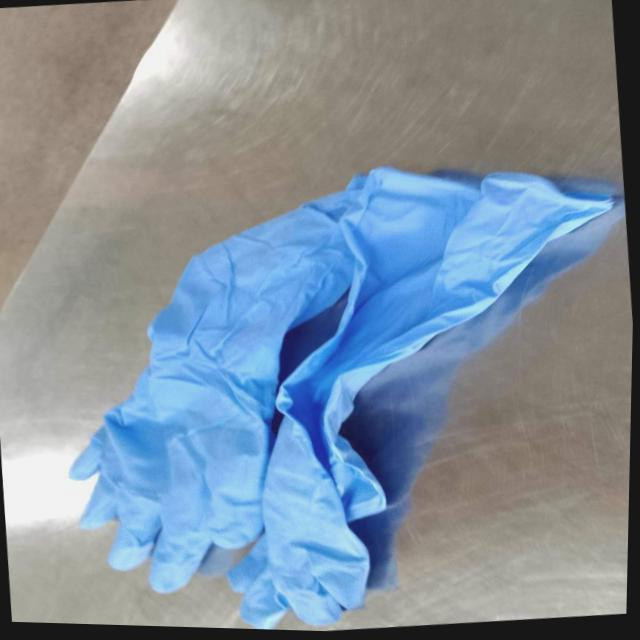General: (68, 163, 623, 628)
